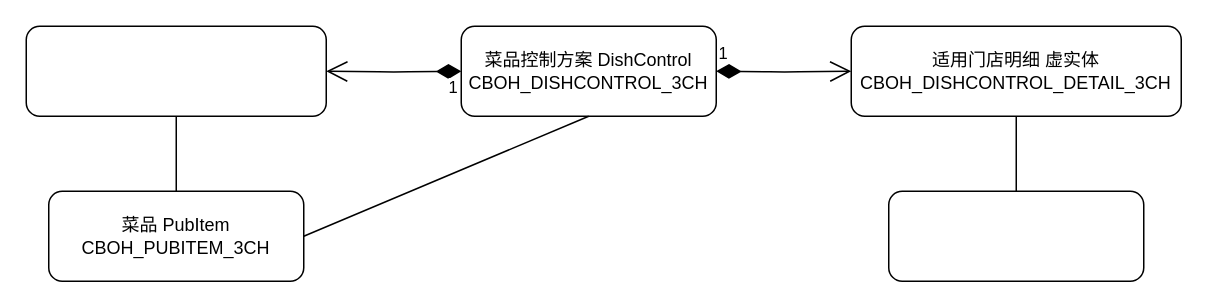
Image size: 1208x308. Some labels were removed from this diagram. Here are the shapes that lost their labels. From the top down, the box of each, then its label:
(25, 25, 326, 116): 后上菜明细 AfterServerDish CBOH_AFTERSERVERDISH_3CH
(887, 190, 1144, 281): 门店 Store CBOH_STORE_3CH
